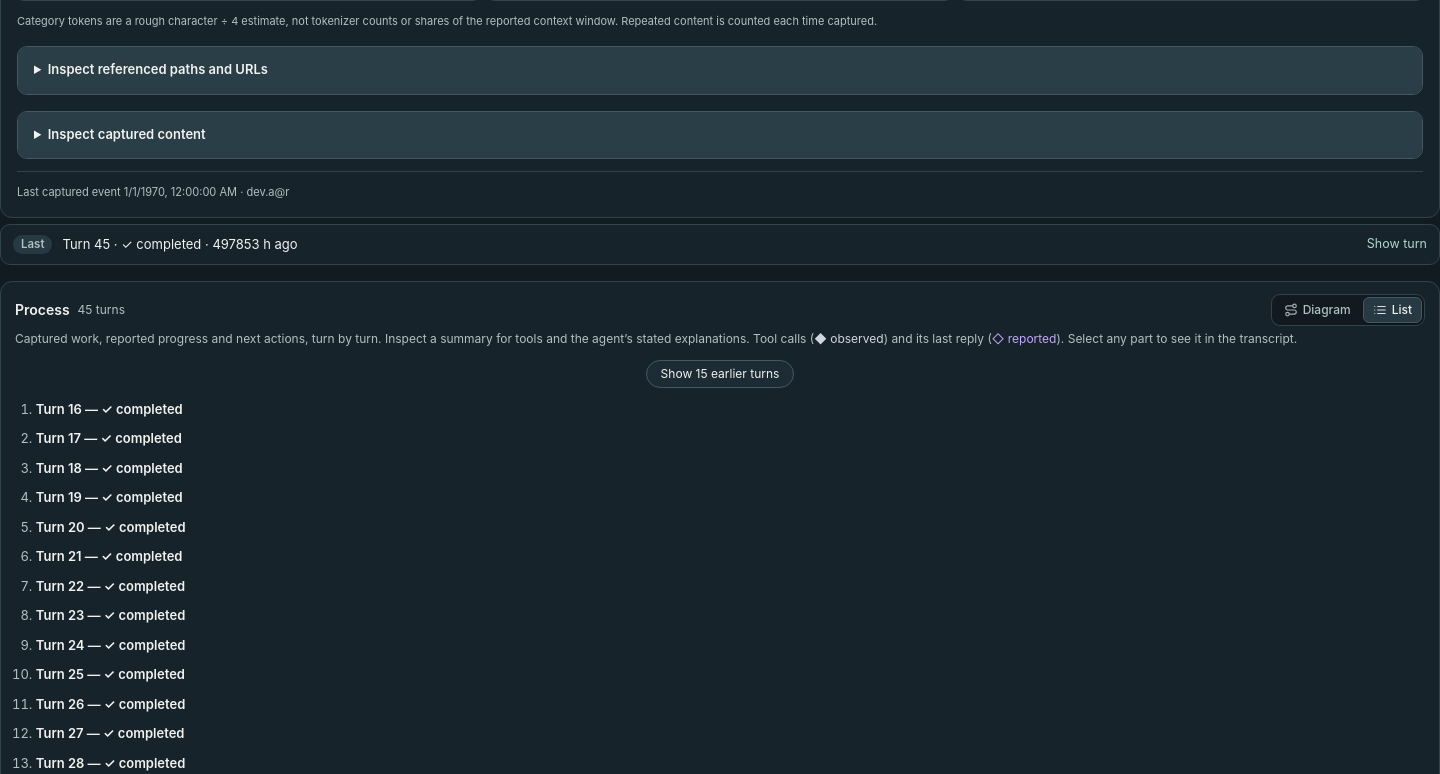
it: VisualProgress › draws only the latest turns of a long session, with a way to show earlier ones
This screenshot has width=1440, height=774.
(page scrolled)
Step 1. Click the button "Show 15 earlier turns" → (720, 374), box [646, 360, 794, 388]
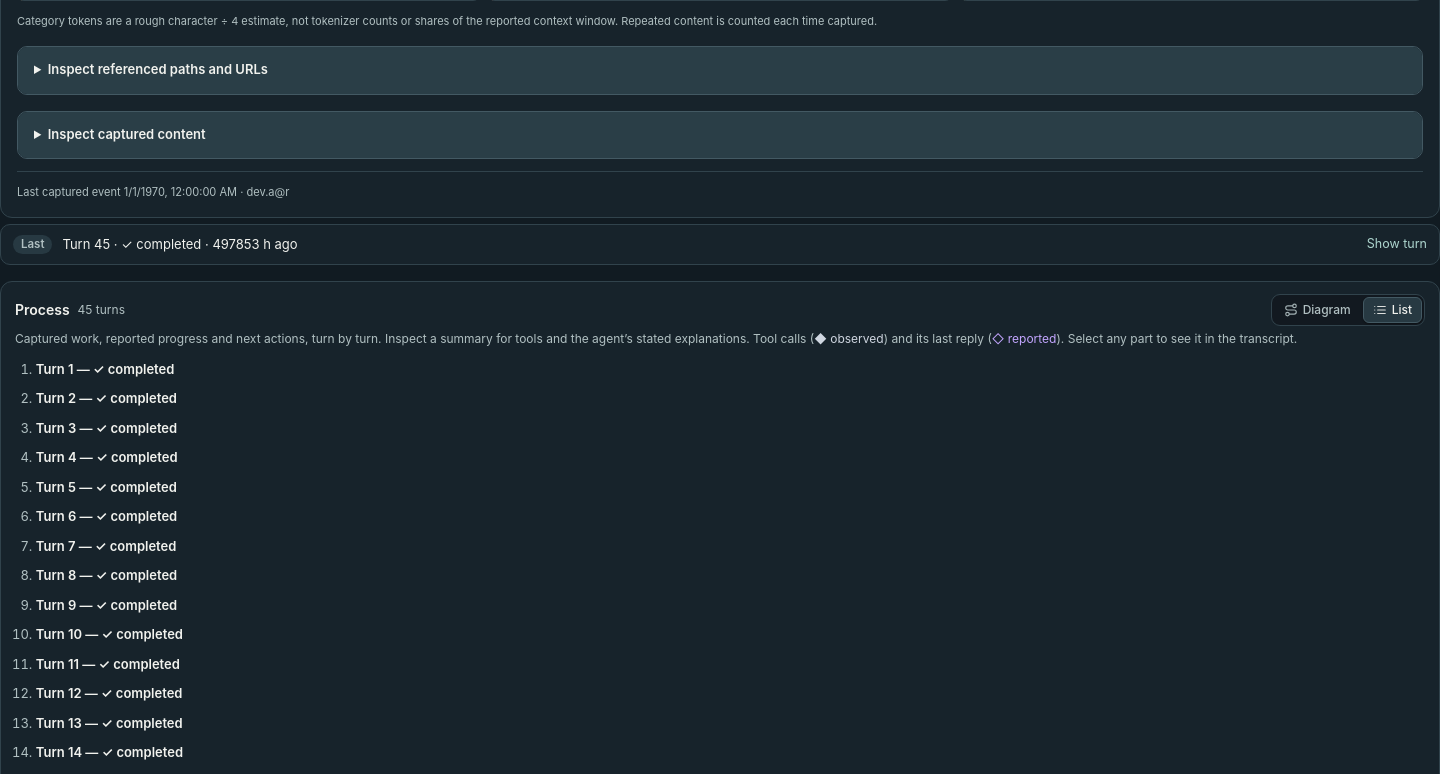
Expected: the number of list items is 45
